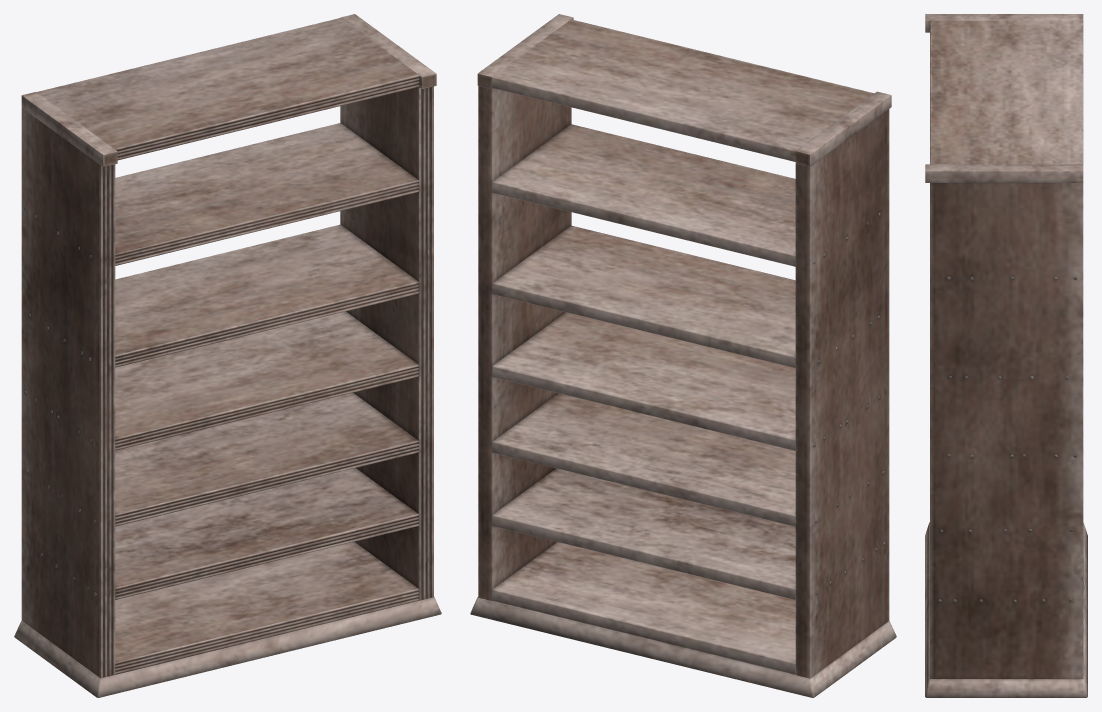
Rendered from distance.fbx.
3 renders of one model, left to right at view 1: azimuth 30°, elevation 25°; view 2: azimuth 150°, elevation 25°; view 3: azimuth 270°, elevation 25°, orthographic. The views are drawn at different scales.
Parts seen in each view (by area): view 1: wooden_bookshelf_worn; view 2: wooden_bookshelf_worn; view 3: wooden_bookshelf_worn.
Part boxes in pixels (left/top/right/bottom): wooden_bookshelf_worn: left=14, top=14, right=441, bottom=697; wooden_bookshelf_worn: left=470, top=14, right=896, bottom=697; wooden_bookshelf_worn: left=925, top=14, right=1087, bottom=697.
Bounding box in the file's own units: 137 × 206 × 58.13.
